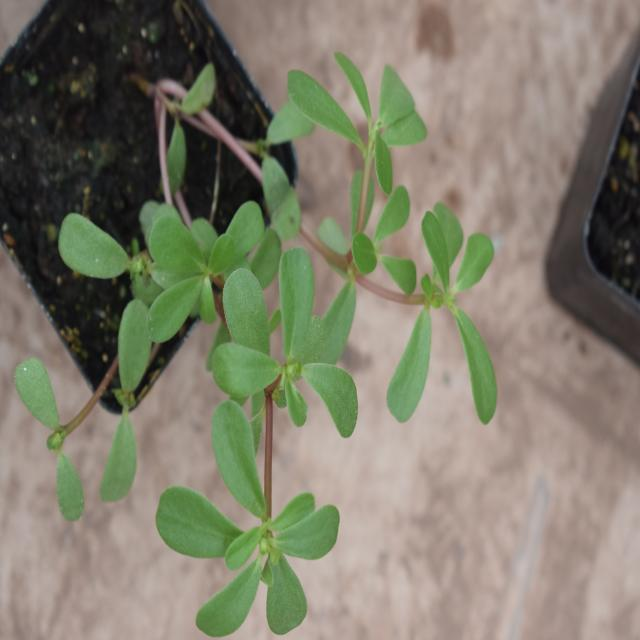purslane: (58, 85, 504, 628)
